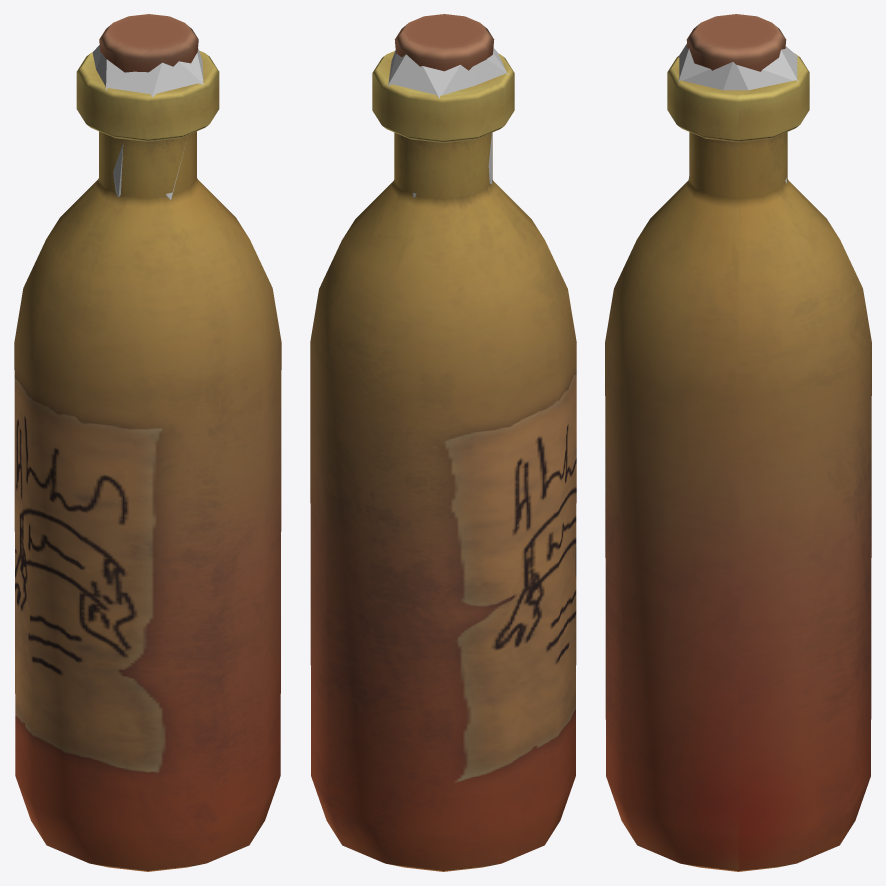
File: SM_Bottle_f.fbx
3 views of the same model, side by side, from view 1: azimuth 30°, elevation 25°; view 2: azimuth 150°, elevation 25°; view 3: azimuth 270°, elevation 25° (orthographic).
Parts seen in each view (by area): view 1: SM_Bottle_f, SM_Bottle_f_ConvexHulls; view 2: SM_Bottle_f, SM_Bottle_f_ConvexHulls; view 3: SM_Bottle_f, SM_Bottle_f_ConvexHulls.
Part boxes in pixels (box(x1,y1,x2,y2)): SM_Bottle_f: box(14, 14, 281, 871); SM_Bottle_f_ConvexHulls: box(92, 45, 203, 199); SM_Bottle_f: box(310, 14, 576, 871); SM_Bottle_f_ConvexHulls: box(387, 48, 508, 197); SM_Bottle_f: box(605, 14, 871, 871); SM_Bottle_f_ConvexHulls: box(678, 44, 798, 183).
Size of the model in its own units: 21.1 by 21.1 by 70.48.
Materials: 2 (1 with a texture image).
